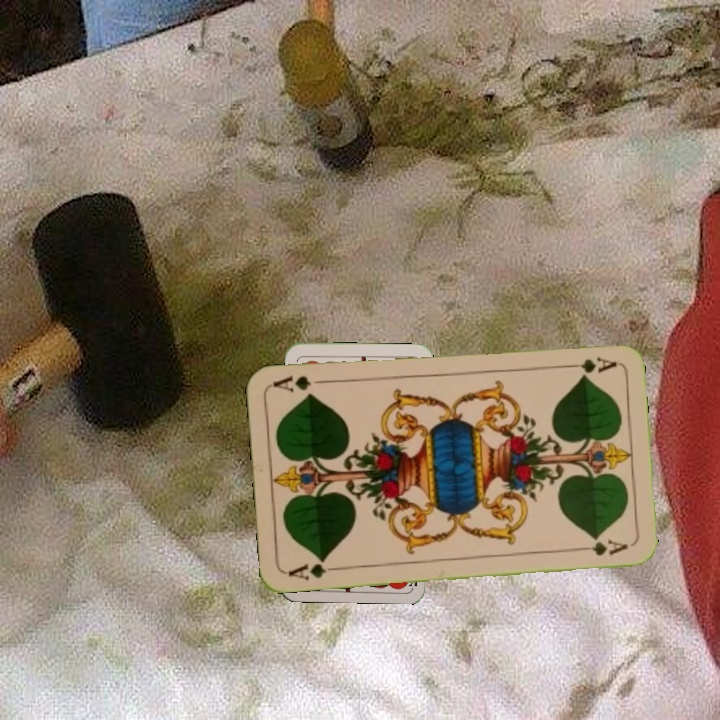GA: (284, 554, 343, 583), (559, 352, 619, 375)
